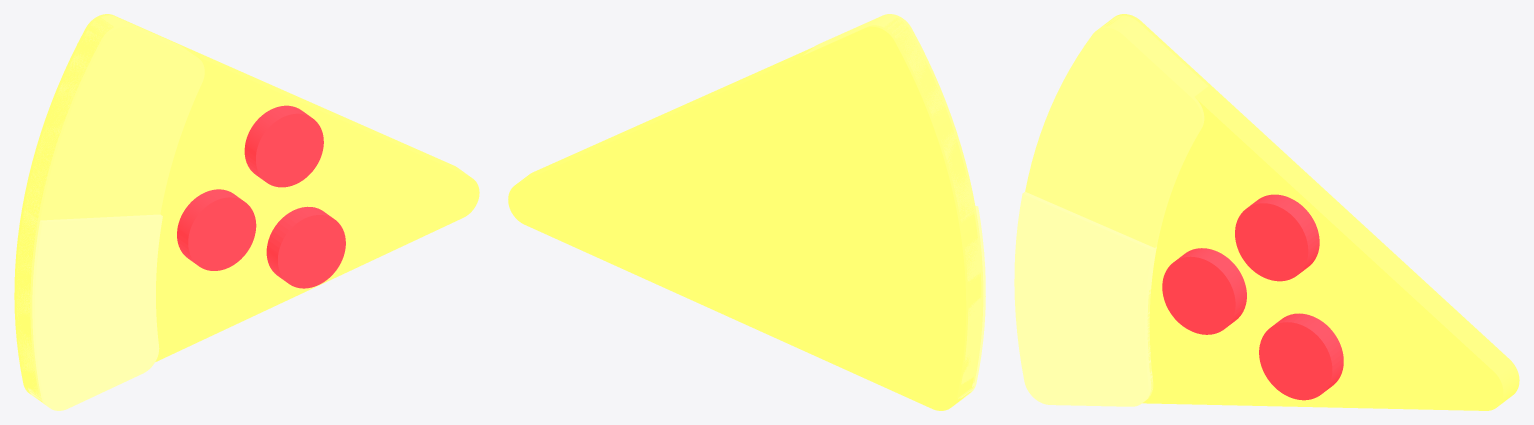
3 renders of one model, left to right at view 1: azimuth 30°, elevation 25°; view 2: azimuth 150°, elevation 25°; view 3: azimuth 330°, elevation 25°, orthographic. The views are drawn at different scales.
Visible parts, largest first — view 1: Curve.007; view 2: Curve.007; view 3: Curve.007.
Part boxes in pixels (x1=…): Curve.007: x1=14, y1=14, x2=479, y2=410; Curve.007: x1=508, y1=14, x2=985, y2=410; Curve.007: x1=1014, y1=14, x2=1519, y2=410.
Bounding box in the file's own units: 17.55 × 13.58 × 2.04.
